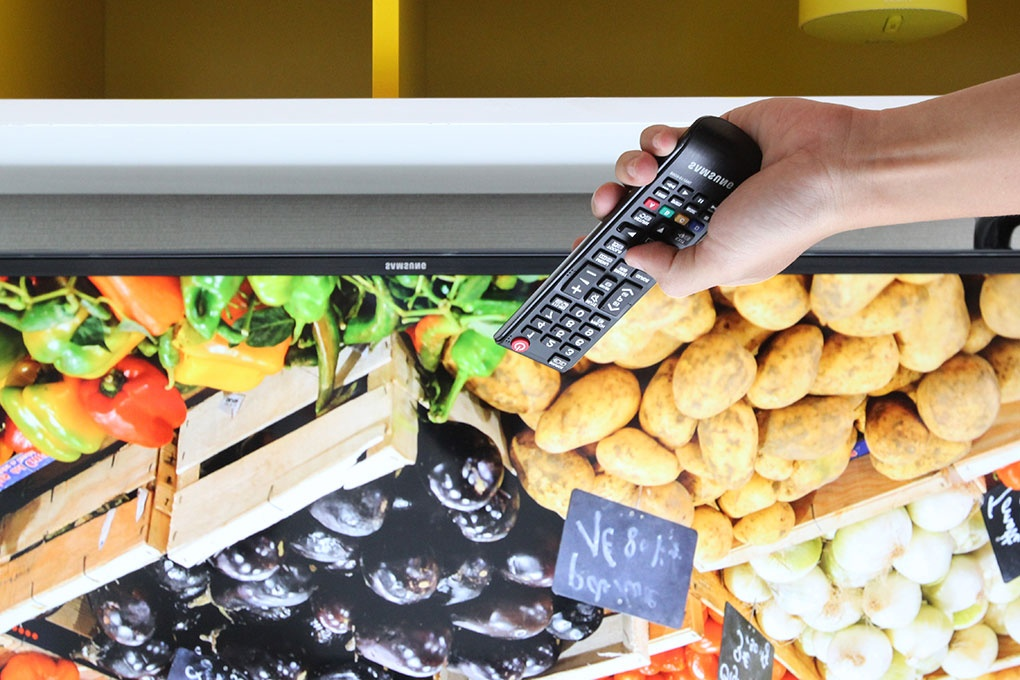SAMSUNG: (636, 100, 800, 238), (337, 183, 471, 310)
